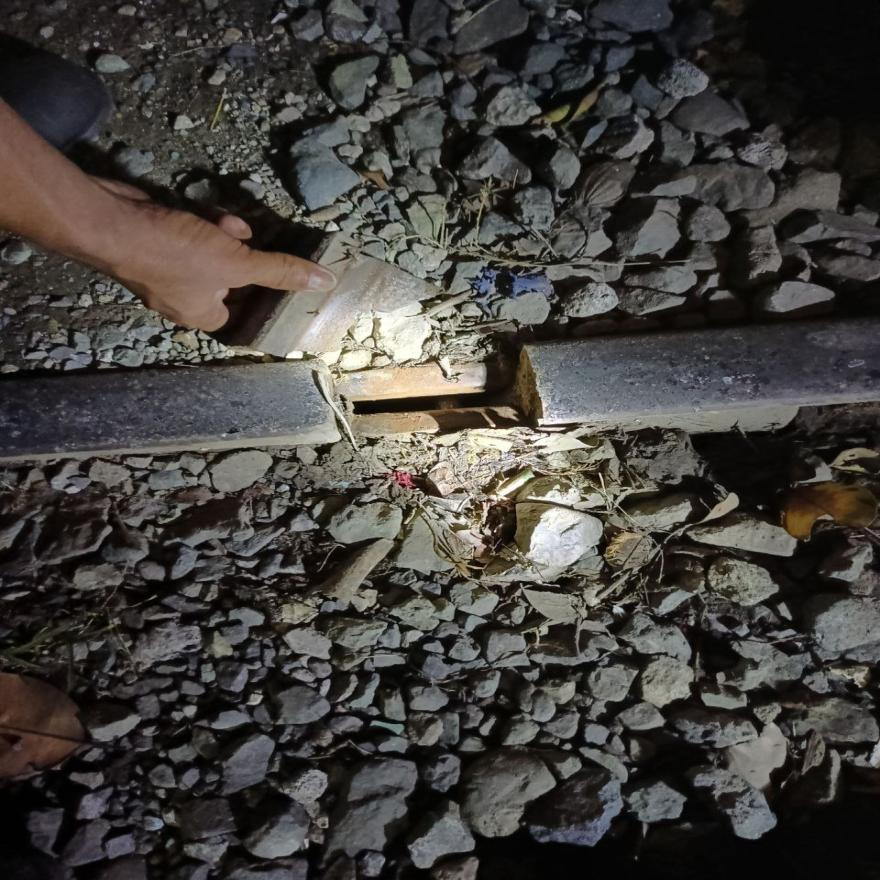railway-gap: (255, 340, 607, 449)
